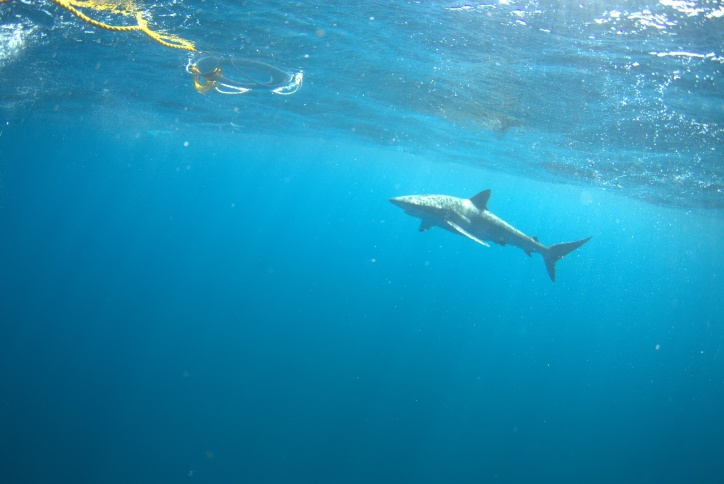Sedoso: (354, 171, 602, 289)
